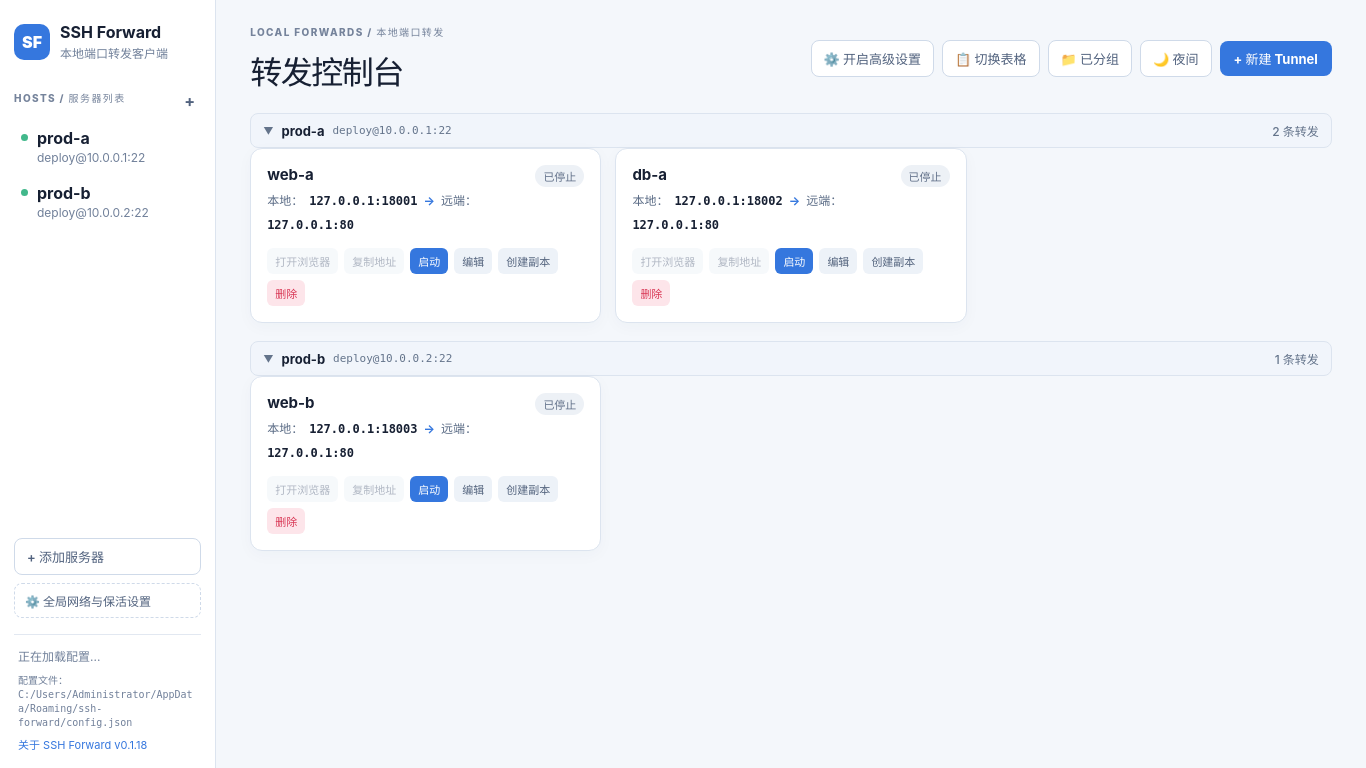
Test: 按服务器分组 › 点击组头可折叠与展开该分组，aria-expanded 同步
Expected: the text "prod-a" below "HOSTS / 服务器列表" is shown, [37,128,90,148]
Expected: the heading "web-a" is shown, [267,165,314,184]
Click the button "▼ prod-a deploy@10.0.0.1:22 2 条转发" at coordinates (303, 130), box [250,113,1332,148]
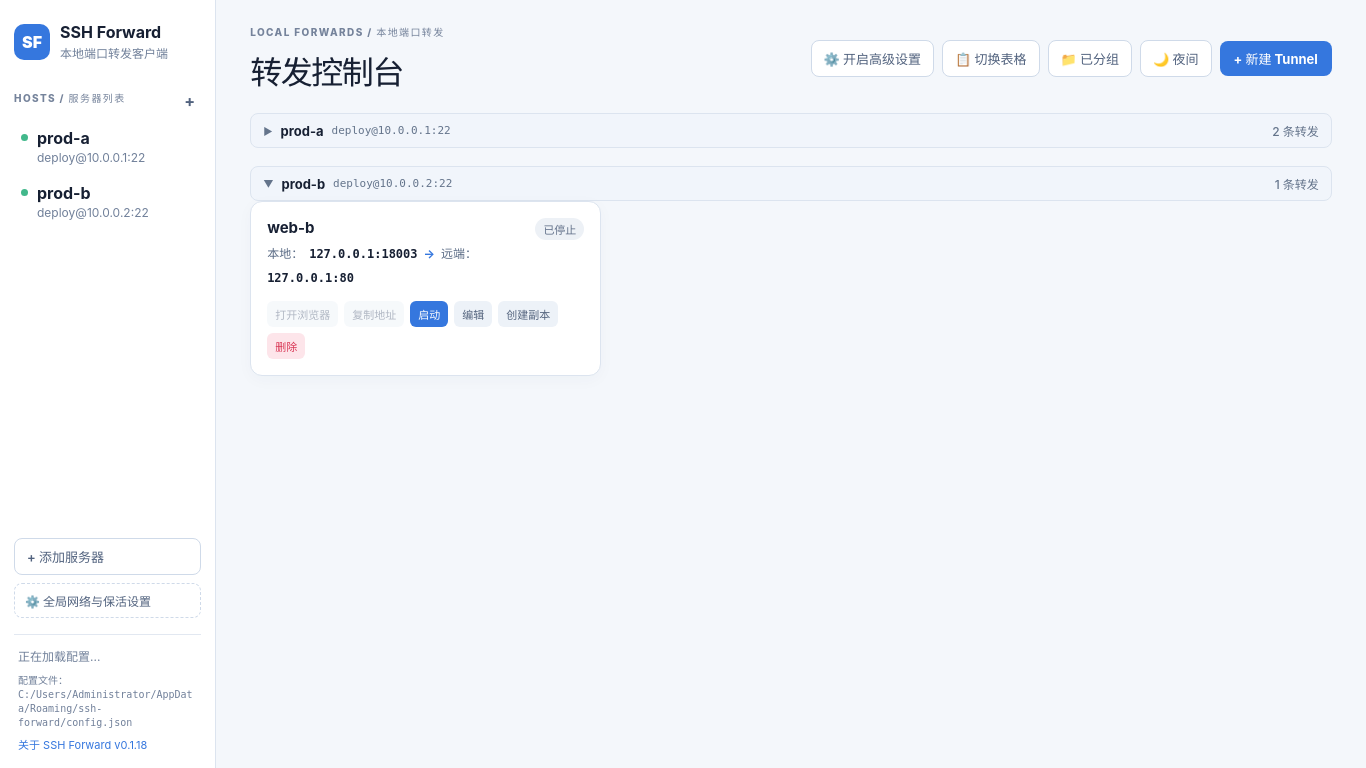
Expected: the button "▶ prod-a deploy@10.0.0.1:22 2 条转发" is collapsed
Expected: the heading "web-a" is gone
Expected: the heading "db-a" is gone
Click the button "▶ prod-a deploy@10.0.0.1:22 2 条转发" at coordinates (302, 130), box [250,113,1332,148]
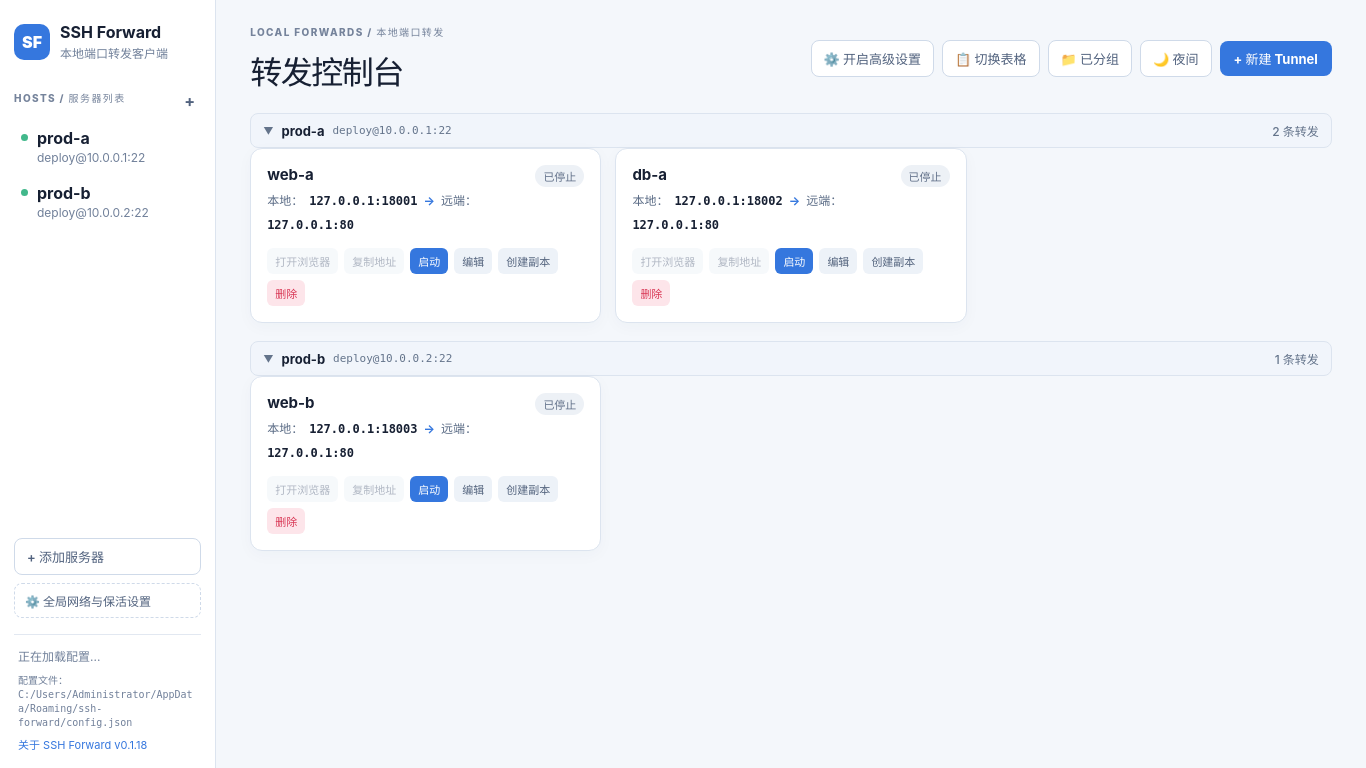
Expected: the button "▼ prod-a deploy@10.0.0.1:22 2 条转发" is expanded, [250,113,1332,148]
Expected: the heading "web-a" is shown, [267,165,314,184]
